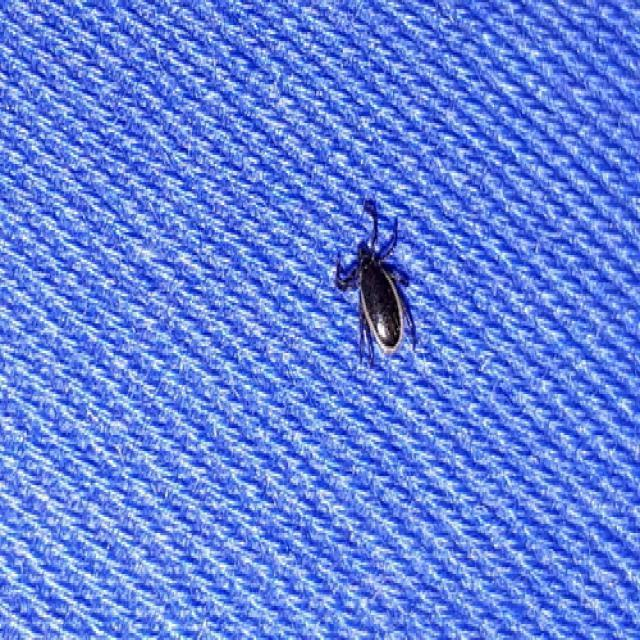Ixodes Ricinus-M: (334, 198, 417, 369)
